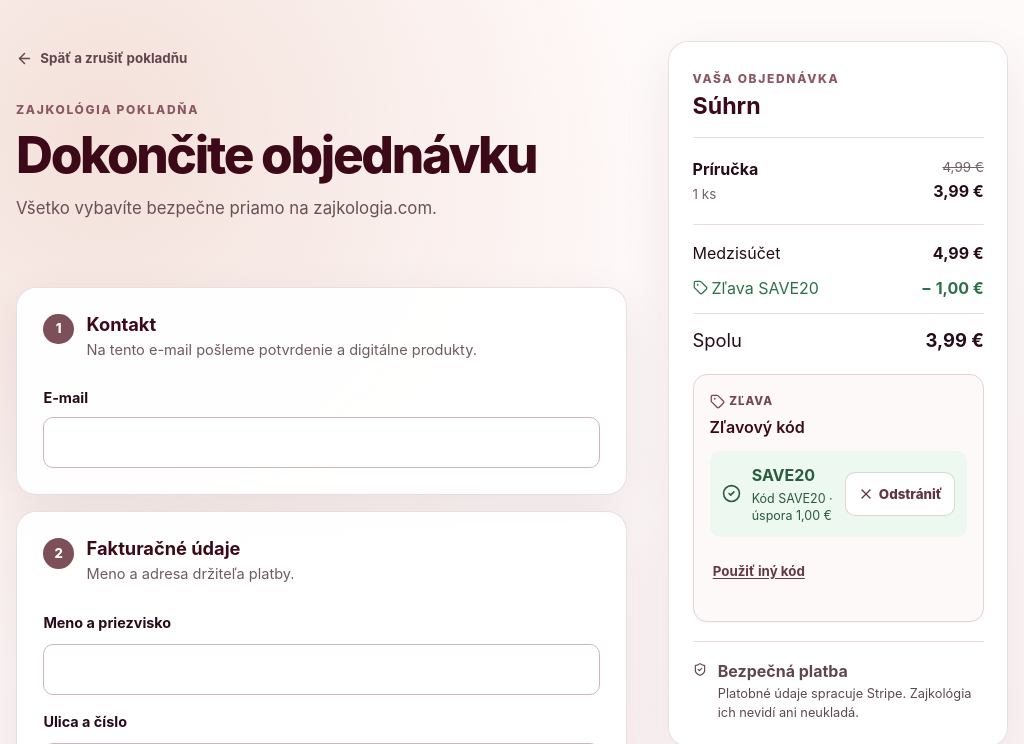
Scenario: first-party Checkout Elements page › keeps the shared coupon when checkout-side removal fails
What coordinates should you click on to do the following:
click the button with aria-label "odstrániť zľavový kód SAVE20"
I would click on:
 (900, 494)
Its box is [846,473,954,515].
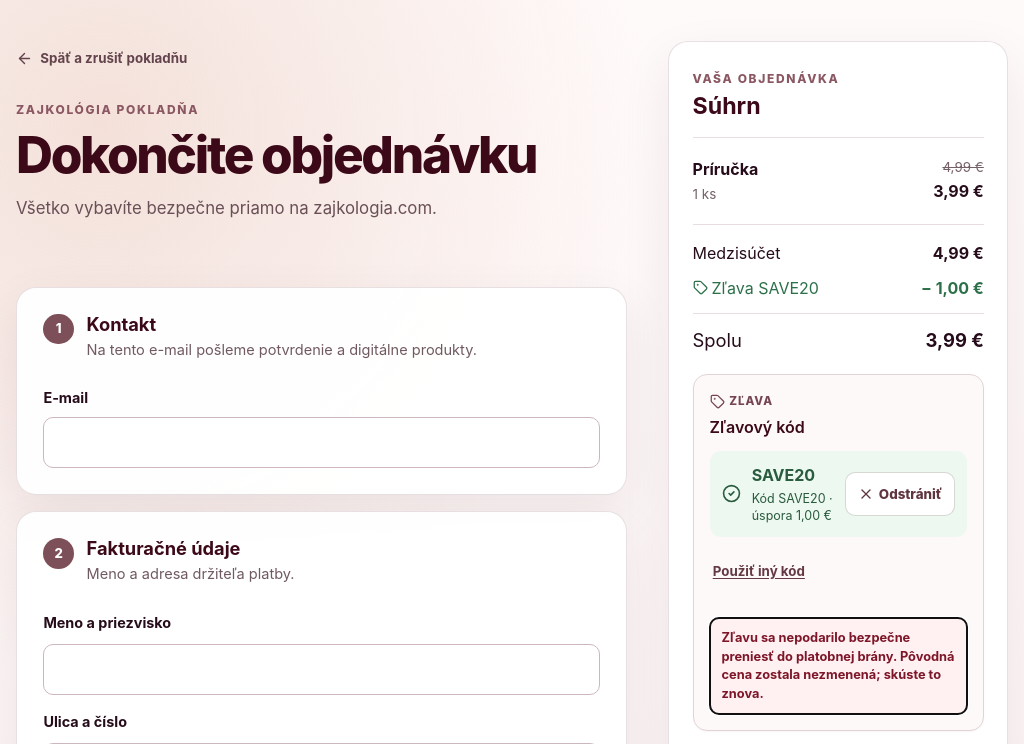
Expected: the text "Kód SAVE20 · úspora 1,00 €" is shown, [752,490,836,524]
Expected: the 2nd message shows "pôvodná cena zostala nezmenená", [722,630,954,701]
